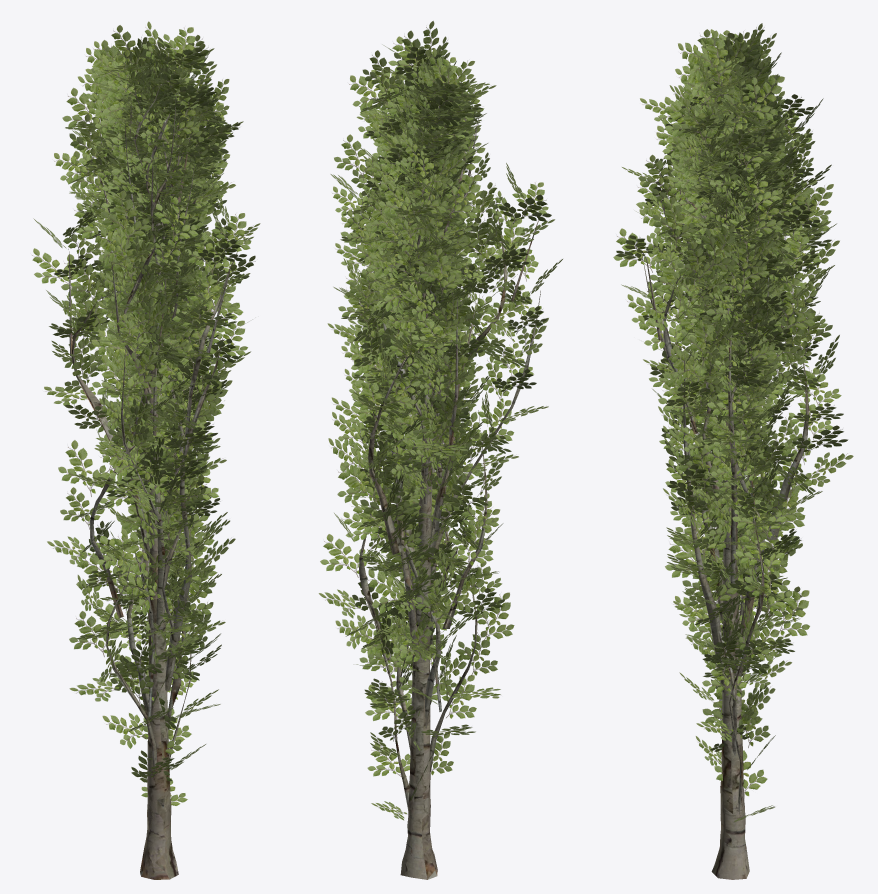
File: pine_with_awkward_teenage_face.glb
3 views of the same model, side by side, from view 1: azimuth 30°, elevation 25°; view 2: azimuth 150°, elevation 25°; view 3: azimuth 270°, elevation 25° (orthographic).
Visible parts, largest first — view 1: leaves; view 2: leaves; view 3: leaves.
Part boxes in pixels (left/top/right/bottom): leaves: left=32, top=21, right=260, bottom=879; leaves: left=318, top=21, right=562, bottom=879; leaves: left=613, top=23, right=853, bottom=879.
Size of the model in its own units: 301 by 1194 by 338.
Materials: 2 (2 with a texture image).
